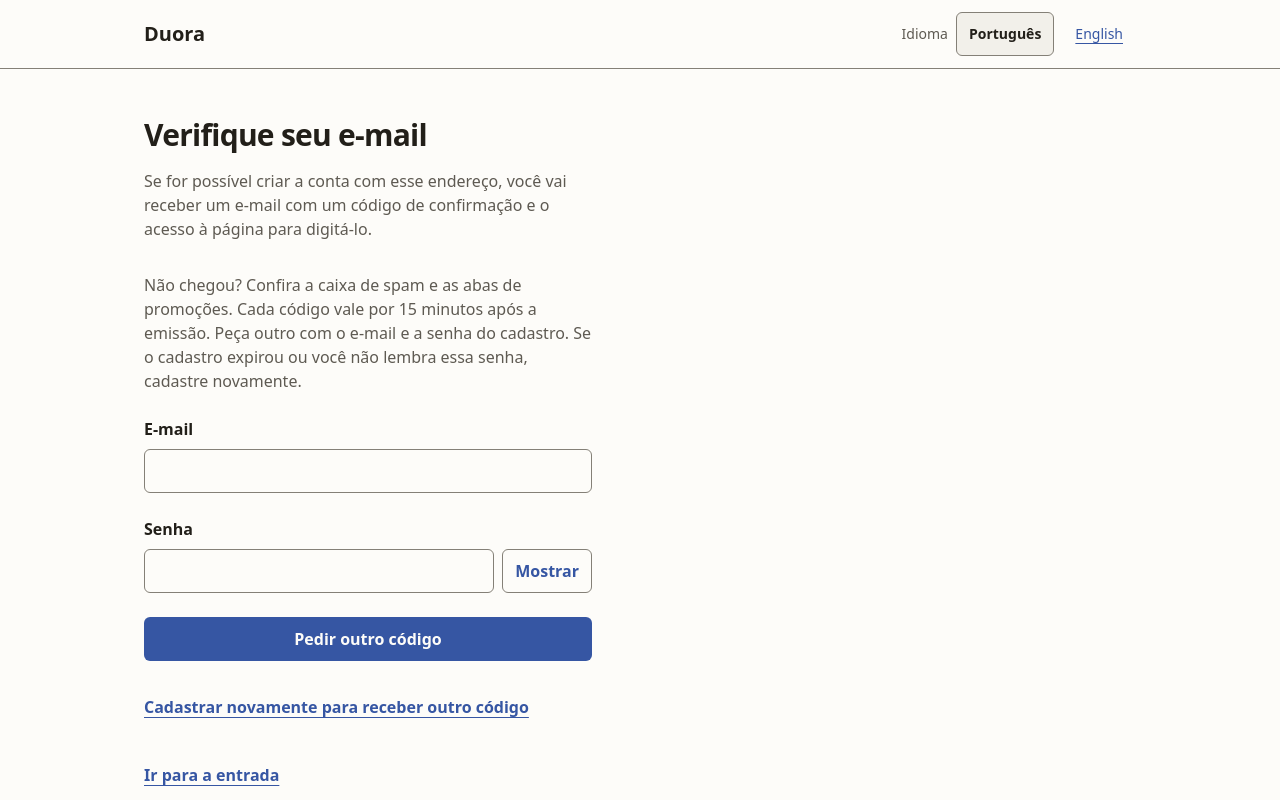
Scenario: explicit confirmation request › waits for explicit credentials and submit, refreshes CSRF and clears the password after neutral acceptance
The width and height of the screenshot is (1280, 800).
Type "owner@example.com" into the field labelled "E-mail" at point(368, 471), box [144, 449, 592, 493]
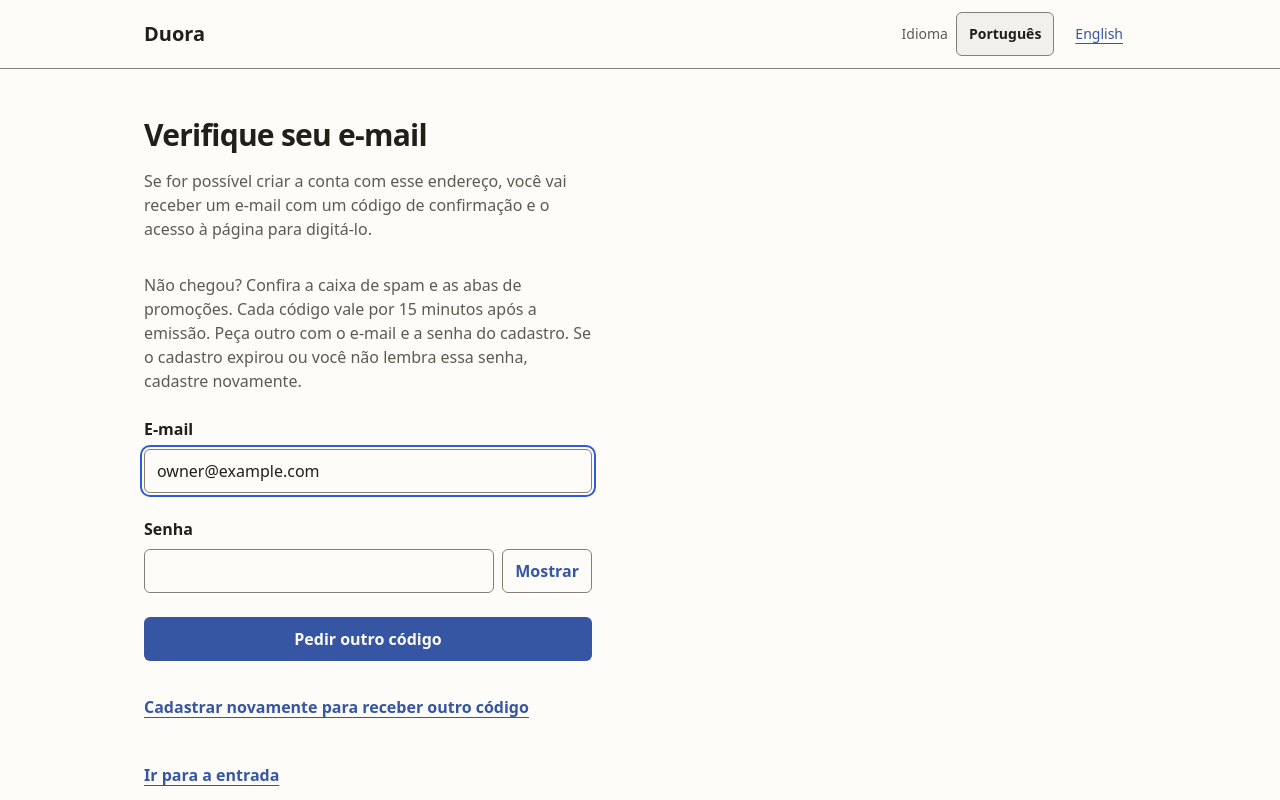
Type "senha já escolhida" into the password field labelled "Senha" at point(319, 571), box [144, 549, 494, 593]
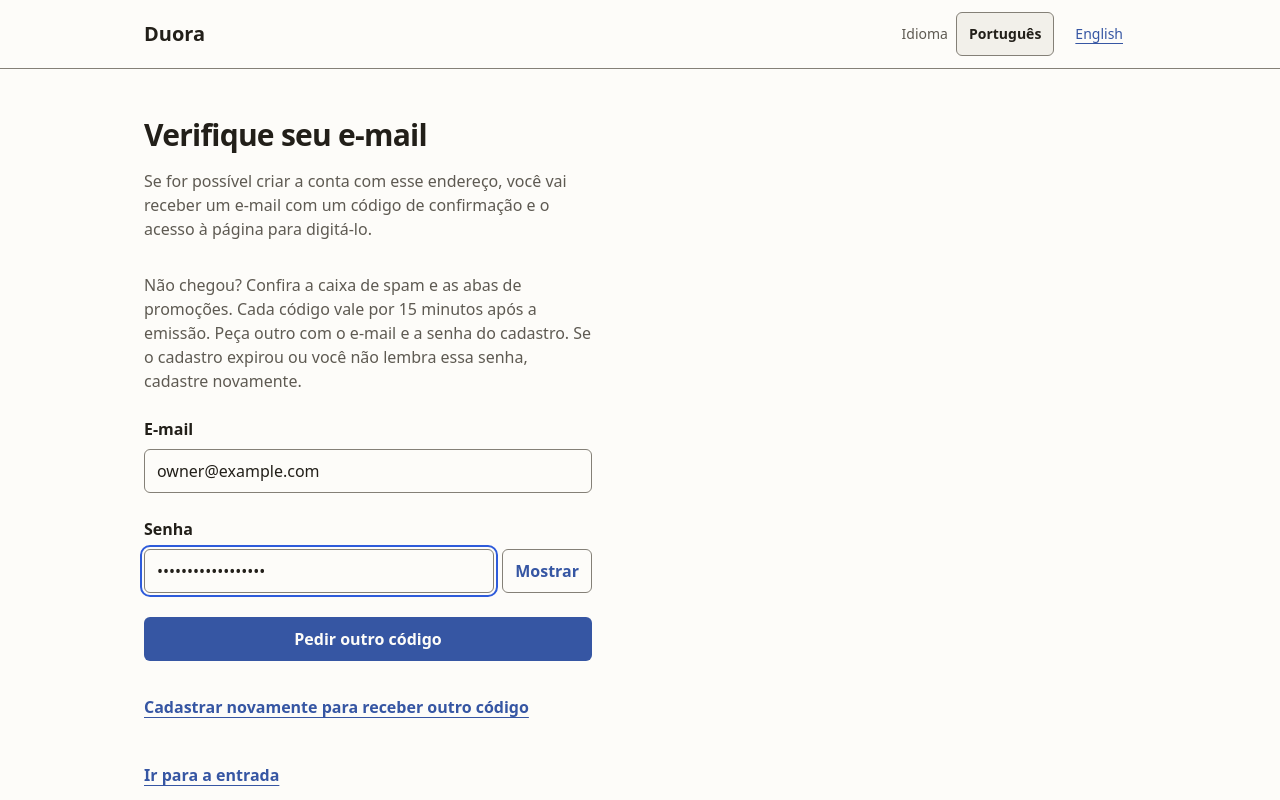
Click the button "Pedir outro código" at point(368, 639), box [144, 617, 592, 661]
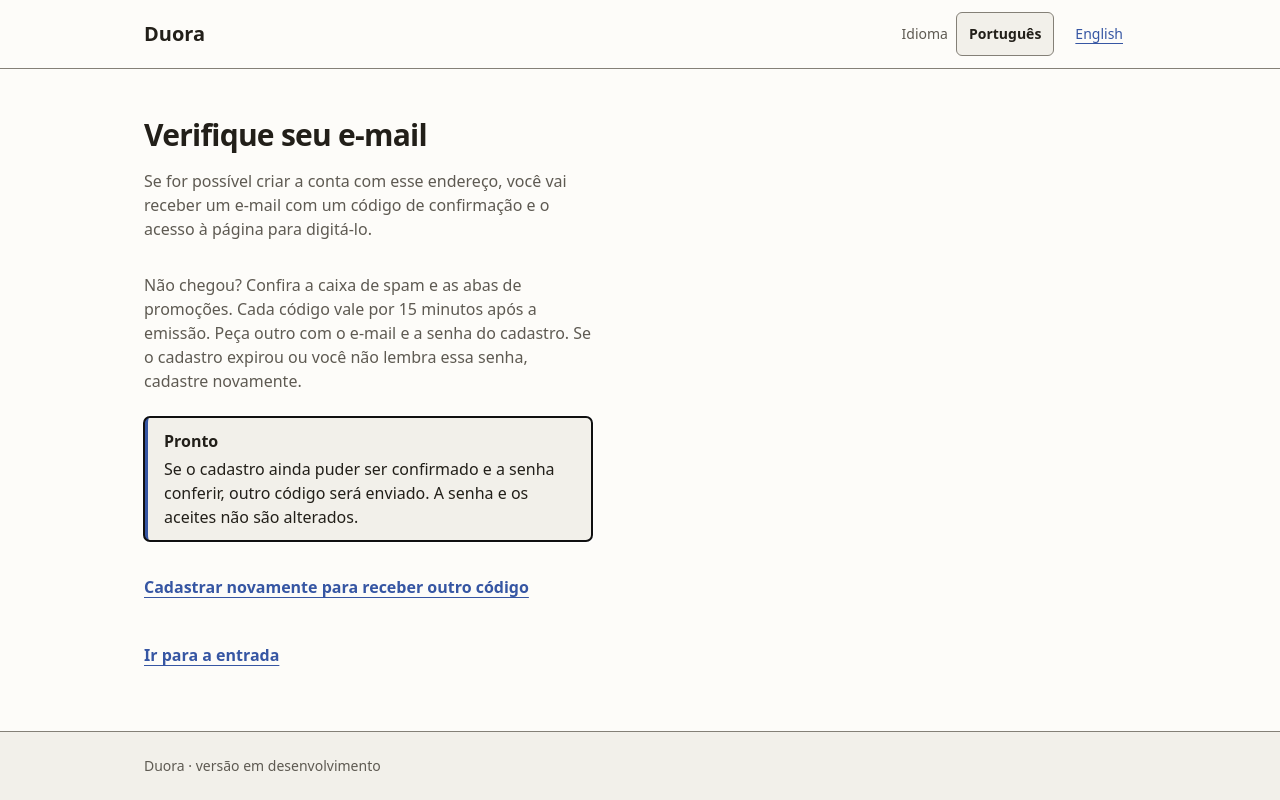
Expected: the text "Se o cadastro ainda puder ser confirmado" is shown, [164, 458, 554, 528]
